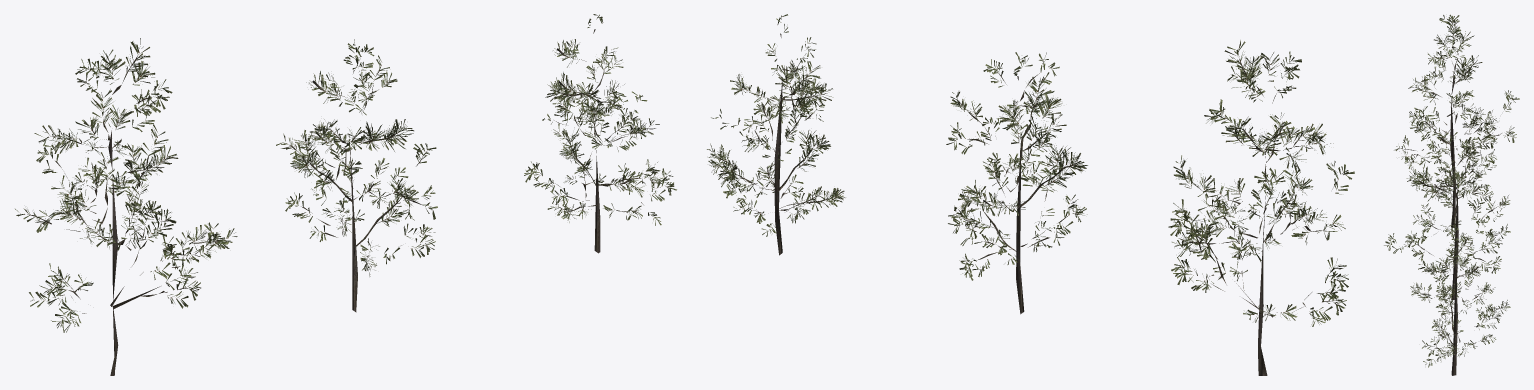
File: pine_sapling_small.glb
3 views of the same model, side by side, from view 1: azimuth 30°, elevation 25°; view 2: azimuth 150°, elevation 25°; view 3: azimuth 270°, elevation 25° (orthographic). The views are drawn at different scales.
Parts seen in each view (by area): view 1: pine_sapling_small_b; view 2: pine_sapling_small_b; view 3: pine_sapling_small_b.
Boxes of the visible parts, <box> form: pine_sapling_small_b: <box>15,14,676,375</box>; pine_sapling_small_b: <box>707,14,1354,375</box>; pine_sapling_small_b: <box>1384,14,1519,375</box>.
Bounding box in the file's own units: 2.62 × 1.29 × 0.7677.
2 materials, 2 textured.
